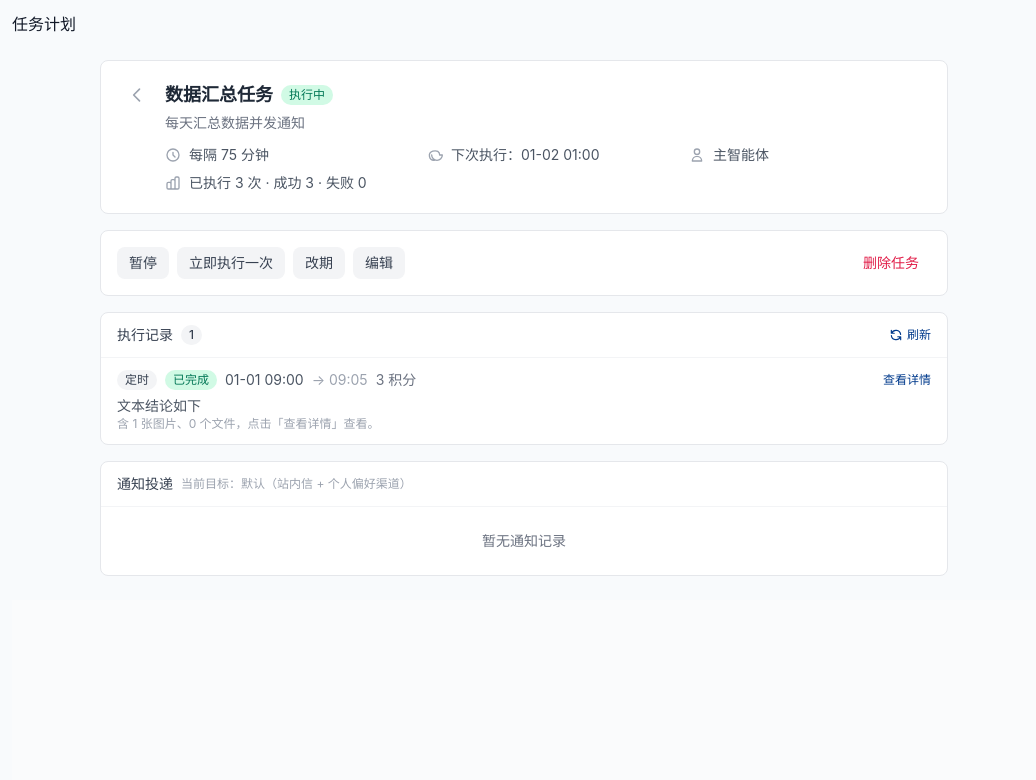
Test: TaskPlanView - 评审修复回归 › P2-4 展开详情渲染输出图片与会话消息（按 metadata.runner_id 过滤）
Click the button "查看详情". click: (907, 380)
box: [883,372,931,388]
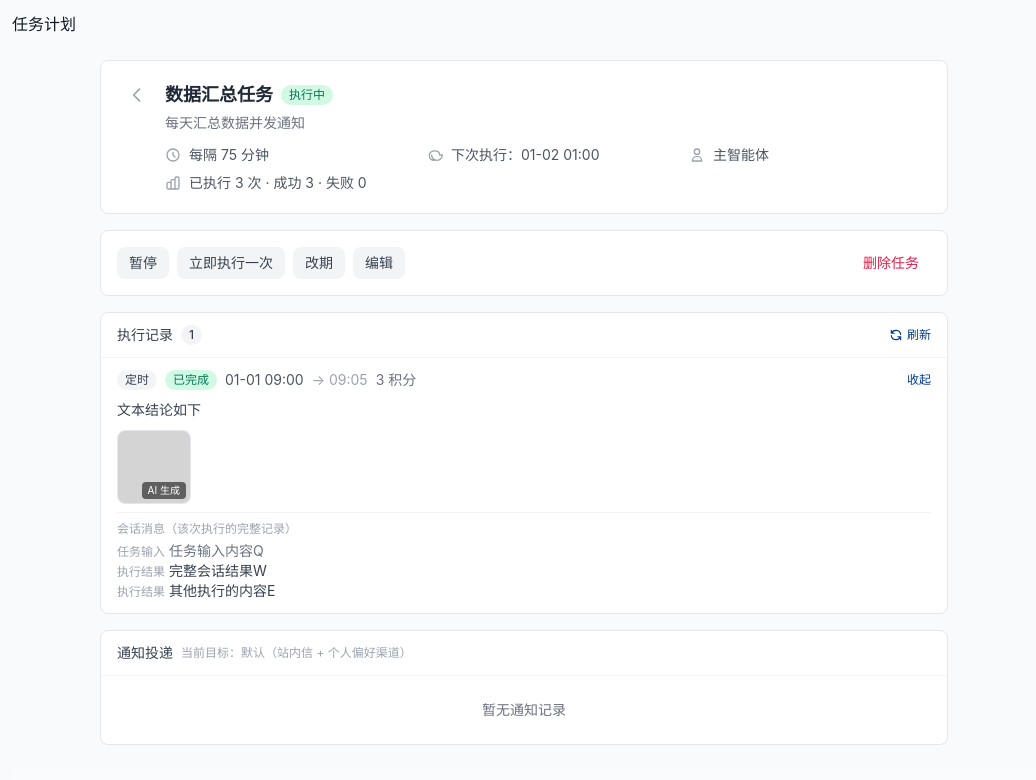
Expected: the text "任务输入内容Q" is shown, [169,542,264,559]
Expected: the text "完整会话结果W" is shown, [169,562,267,579]
